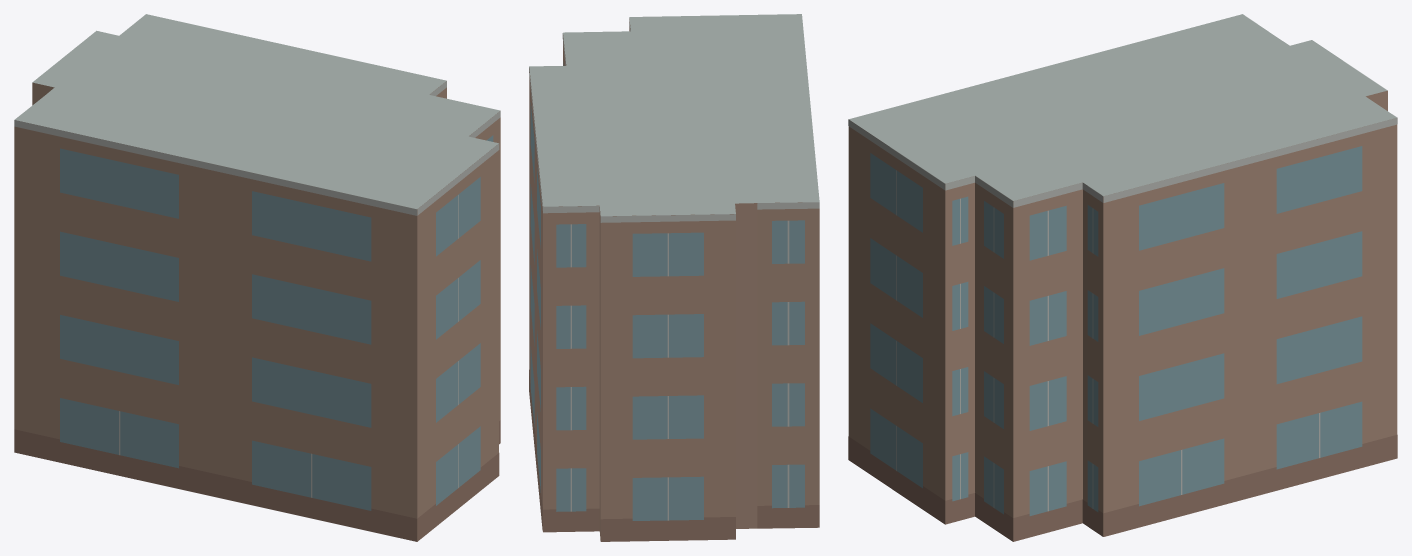
File: residential-2efaa4a8-15bb-4d79-ae18-e302cffedee7.glb
3 views of the same model, side by side, from view 1: azimuth 30°, elevation 25°; view 2: azimuth 150°, elevation 25°; view 3: azimuth 270°, elevation 25° (orthographic). The views are drawn at different scales.
Visible parts, largest first — view 1: residential-2efaa4a8-15bb-4d79-ae18-e302cffedee7.tmp; view 2: residential-2efaa4a8-15bb-4d79-ae18-e302cffedee7.tmp; view 3: residential-2efaa4a8-15bb-4d79-ae18-e302cffedee7.tmp.
Boxes of the visible parts, bbox=[...] form: residential-2efaa4a8-15bb-4d79-ae18-e302cffedee7.tmp: bbox=[14, 14, 500, 541]; residential-2efaa4a8-15bb-4d79-ae18-e302cffedee7.tmp: bbox=[529, 14, 819, 541]; residential-2efaa4a8-15bb-4d79-ae18-e302cffedee7.tmp: bbox=[848, 14, 1397, 541].
Size of the model in its own units: 14.38 by 12.2 by 17.82.
